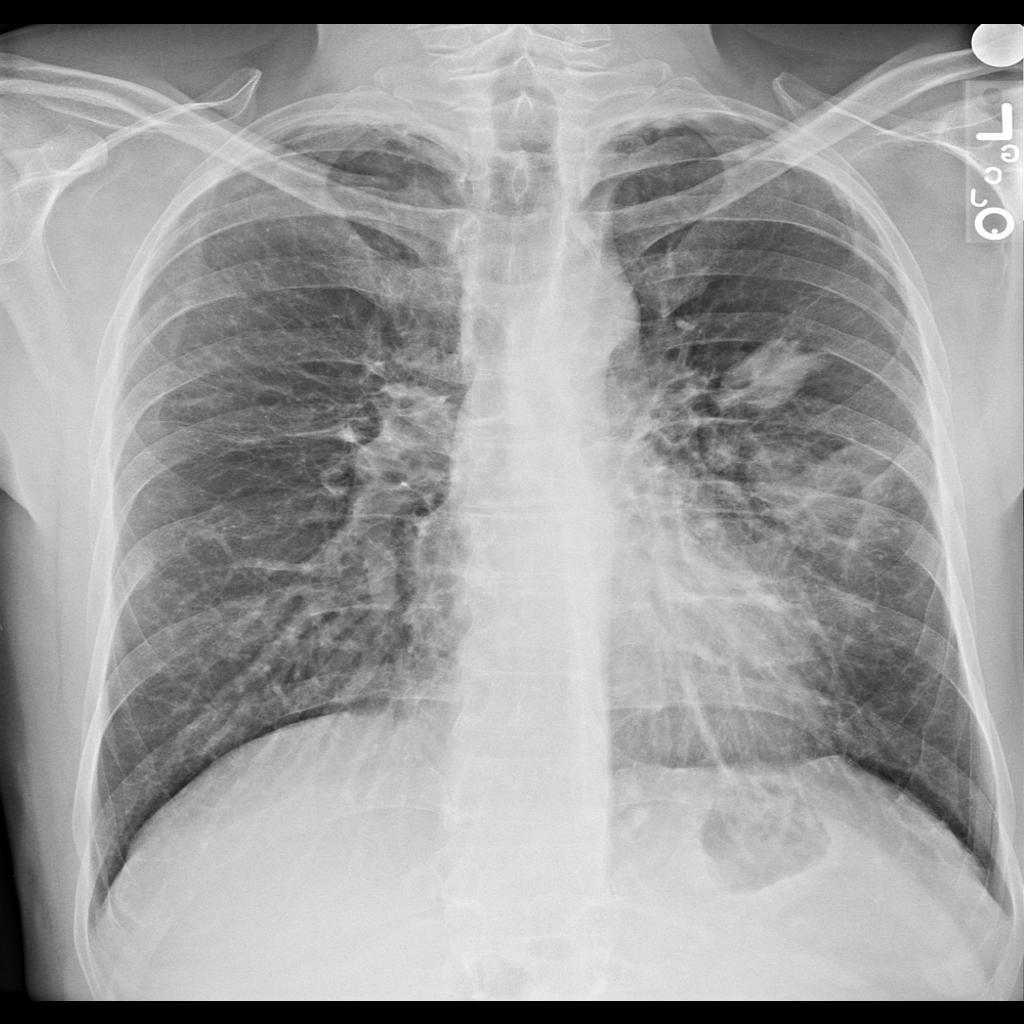Nodule: (688, 311, 847, 422)
